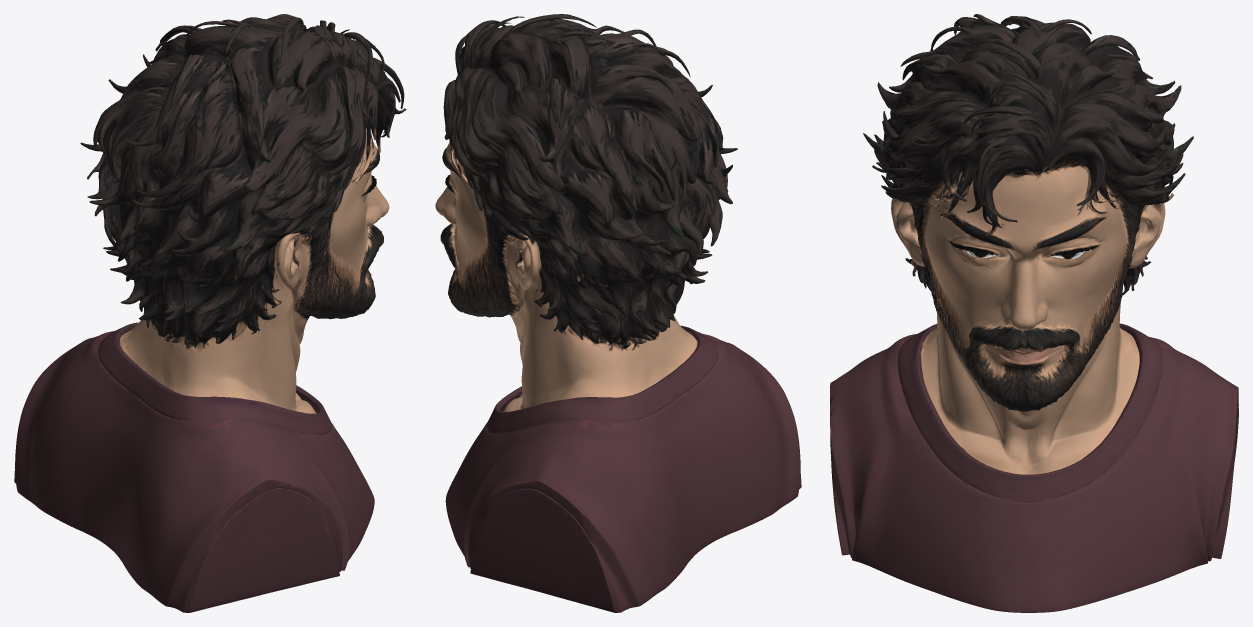
The model's file is seungyeon_v3_bust_tripo.glb.
3 renders of one model, left to right at view 1: azimuth 30°, elevation 25°; view 2: azimuth 150°, elevation 25°; view 3: azimuth 270°, elevation 25°, orthographic. The views are drawn at different scales.
Visible parts, largest first — view 1: tripo_node_ba1f17ef-ef64-4fa1-81f5-9c1d49f186f5; view 2: tripo_node_ba1f17ef-ef64-4fa1-81f5-9c1d49f186f5; view 3: tripo_node_ba1f17ef-ef64-4fa1-81f5-9c1d49f186f5.
Part boxes in pixels (<box>): tripo_node_ba1f17ef-ef64-4fa1-81f5-9c1d49f186f5: <box>14,14,406,612</box>; tripo_node_ba1f17ef-ef64-4fa1-81f5-9c1d49f186f5: <box>435,14,801,612</box>; tripo_node_ba1f17ef-ef64-4fa1-81f5-9c1d49f186f5: <box>830,14,1238,612</box>.
Size of the model in its own units: 0.6276 by 0.98 by 0.6876.
Materials: 1 (1 with a texture image).
